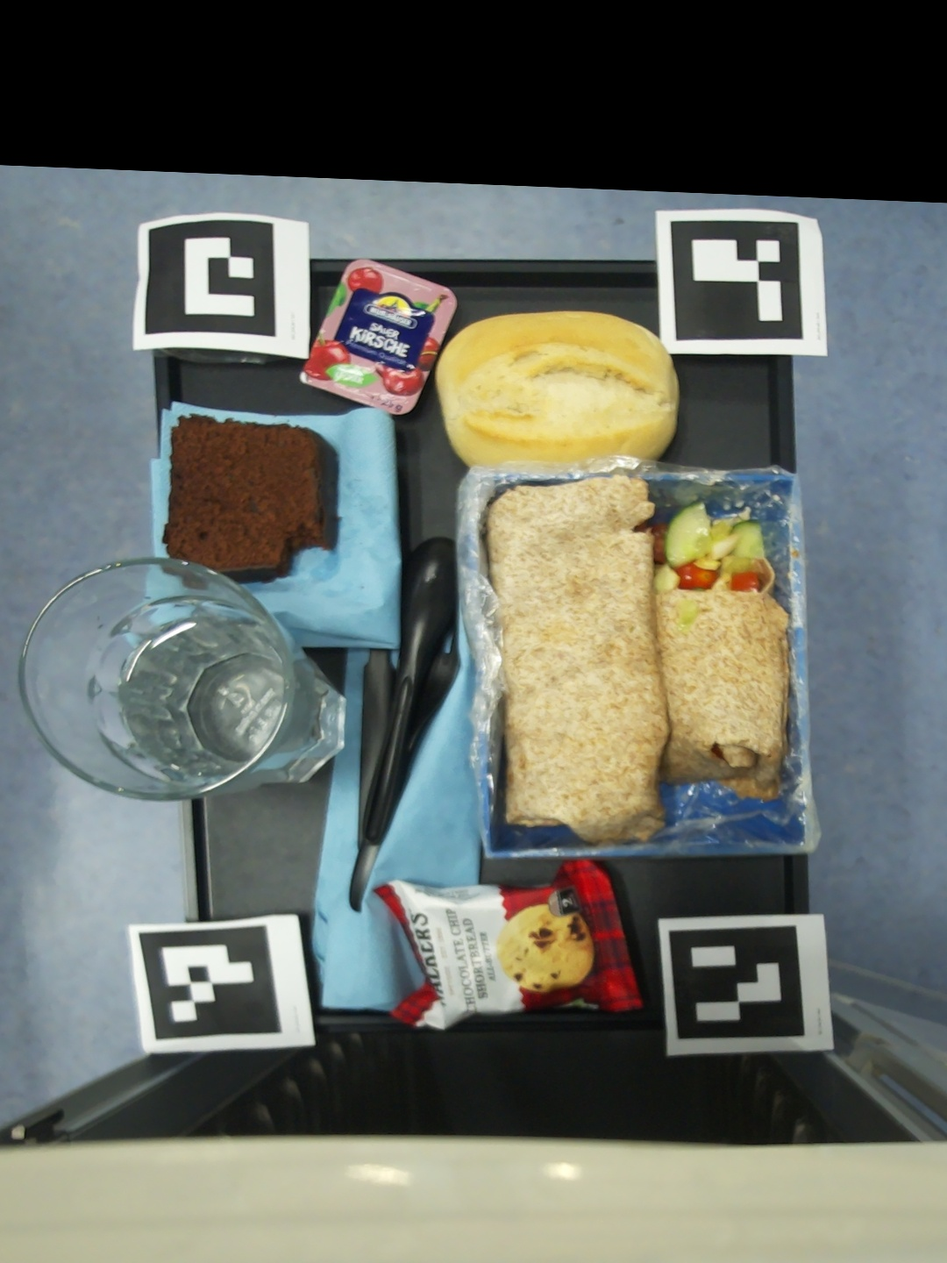bread_roll: (435, 312, 679, 467)
brownie: (162, 414, 339, 584)
cherry_jam: (299, 258, 457, 415)
cookie: (373, 859, 643, 1030)
water_bottle: (19, 558, 345, 800)
wrap_half_1: (487, 475, 670, 842)
wrap_half_2: (652, 499, 790, 803)
